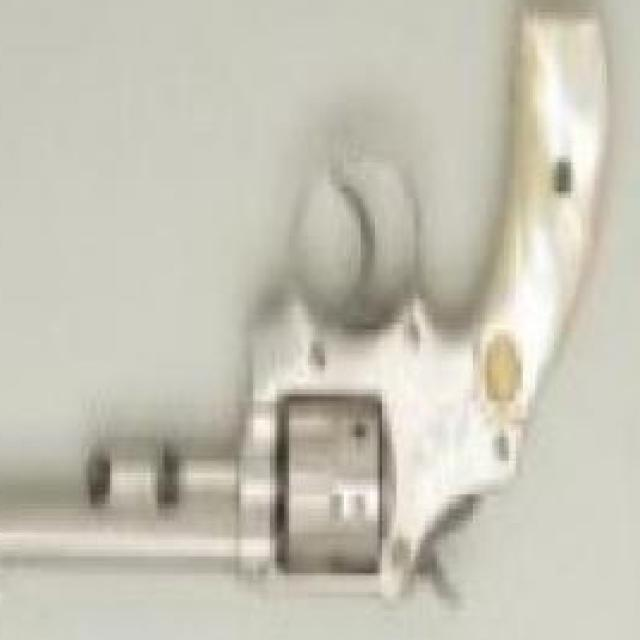pistol: (0, 10, 607, 623)
